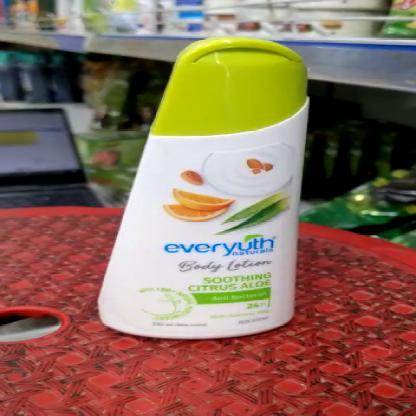Everyuth Naturals Body Lotion Soothing Citrus 200ml: (92, 30, 314, 344)
